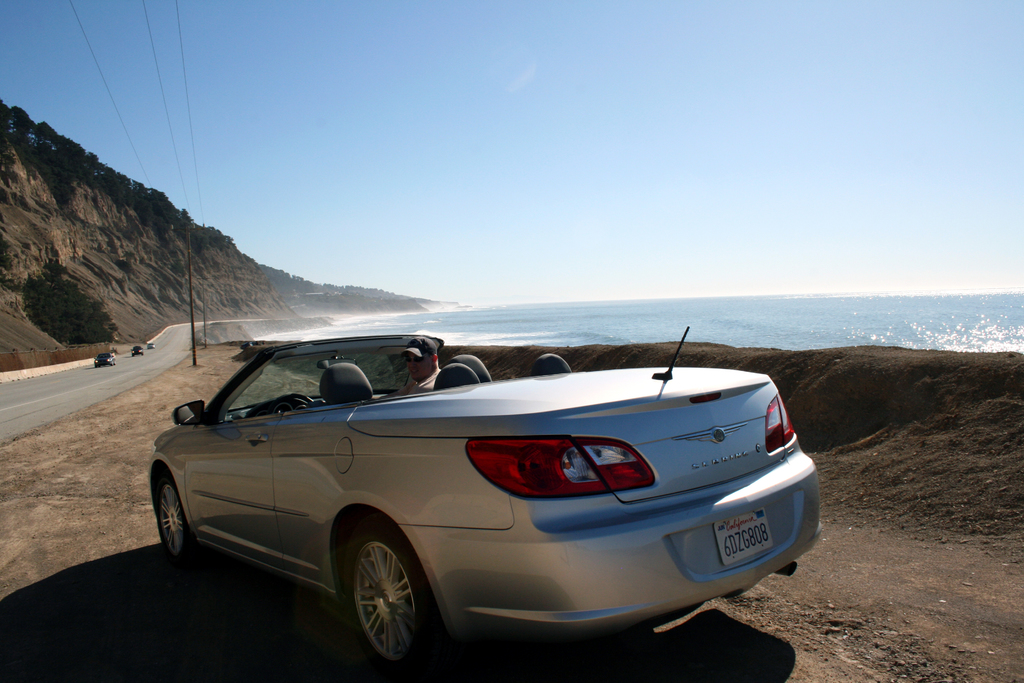person: (389, 335, 485, 396)
